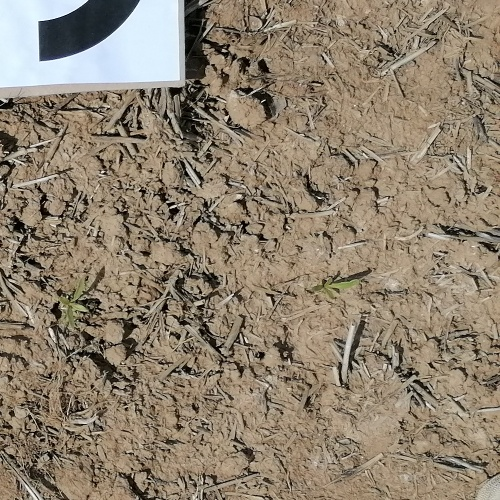beet: (58, 275, 88, 329), (314, 273, 359, 299)
